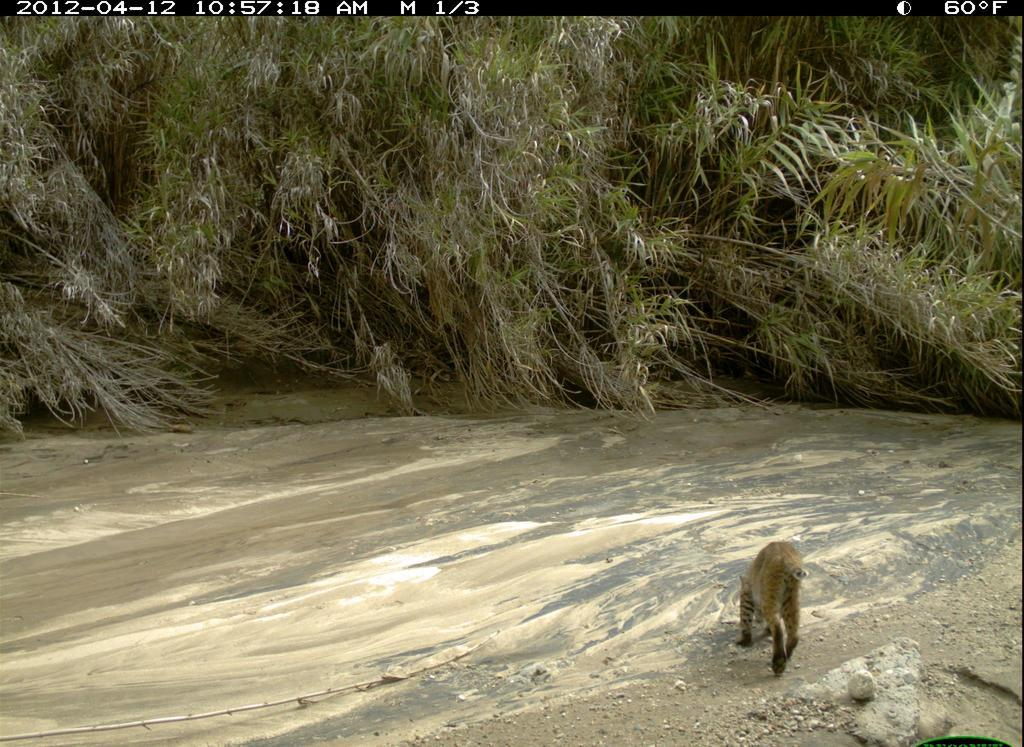bobcat: (725, 536, 820, 688)
